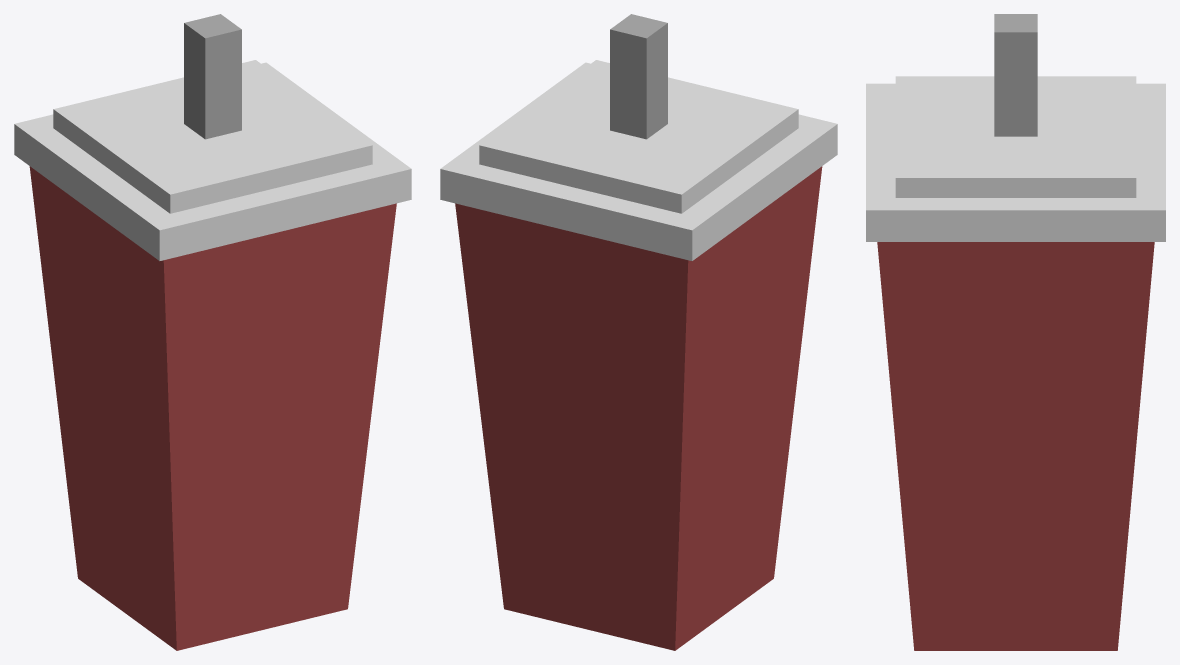
The model's file is FastFoodCupRed.fbx.
The picture shows the model from 3 angles, left to right: view 1: azimuth 30°, elevation 25°; view 2: azimuth 150°, elevation 25°; view 3: azimuth 270°, elevation 25°; orthographic projection. The views are drawn at different scales.
Parts seen in each view (by area): view 1: FastFoodCupRed; view 2: FastFoodCupRed; view 3: FastFoodCupRed.
Boxes of the visible parts, x1,y1,x2,y2 form: FastFoodCupRed: (14, 14, 411, 650); FastFoodCupRed: (440, 14, 837, 650); FastFoodCupRed: (866, 14, 1165, 650).
Size of the model in its own units: 0.1551 by 0.3339 by 0.1551.
